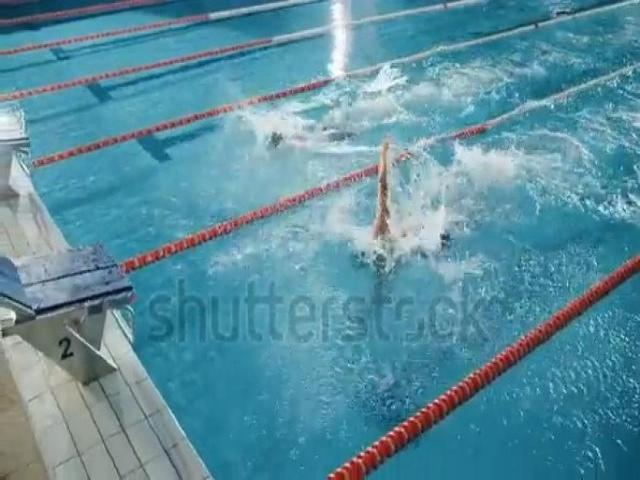swimming: (353, 138, 458, 296), (242, 117, 363, 161)
